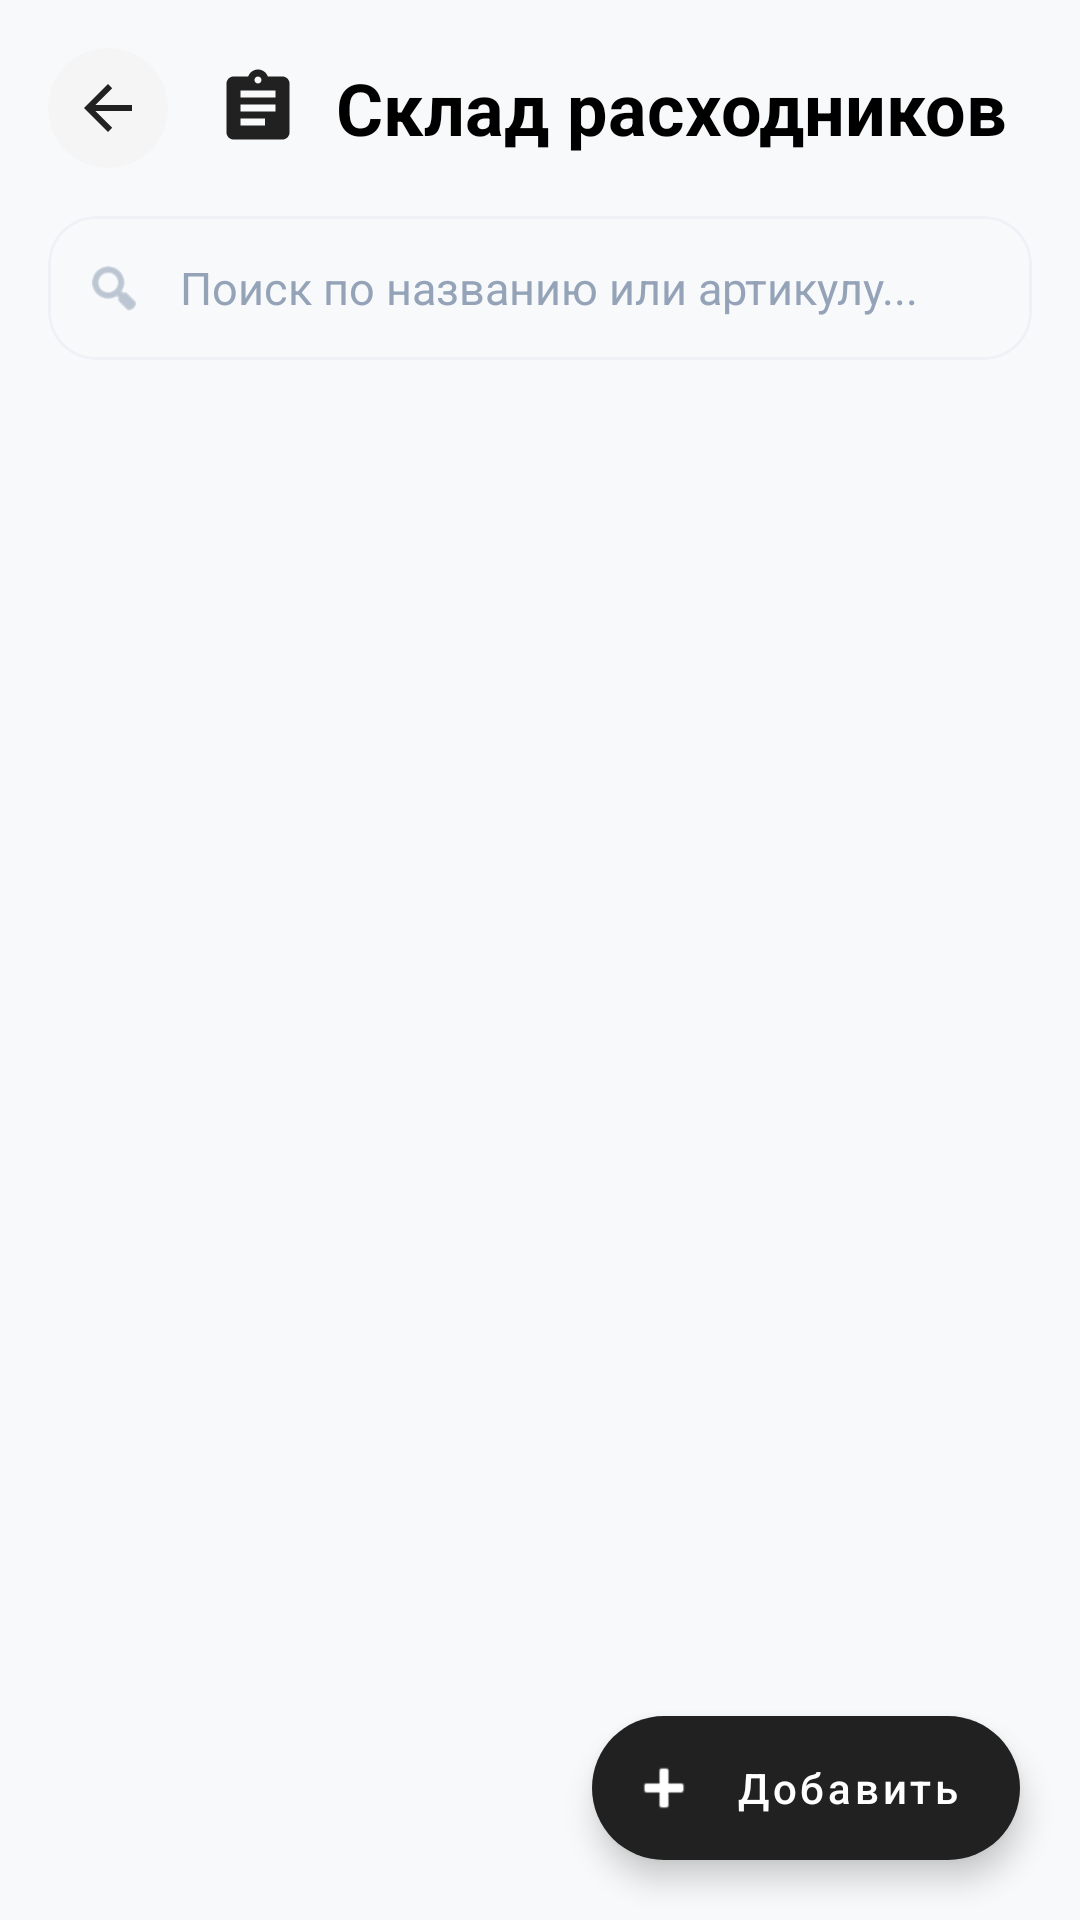

Point at icon controls on the screen. Image size 1080x1920, points as point (x, y).
assignment: point (258, 104)
search: point (114, 288)
